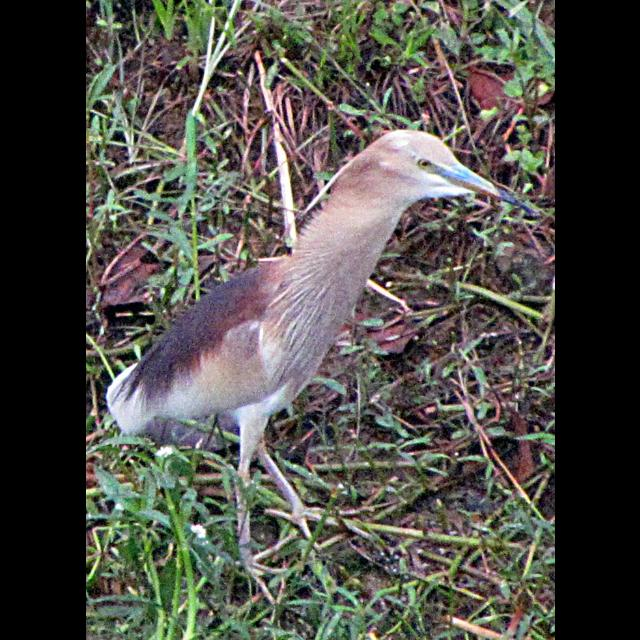heron: (122, 125, 530, 540)
